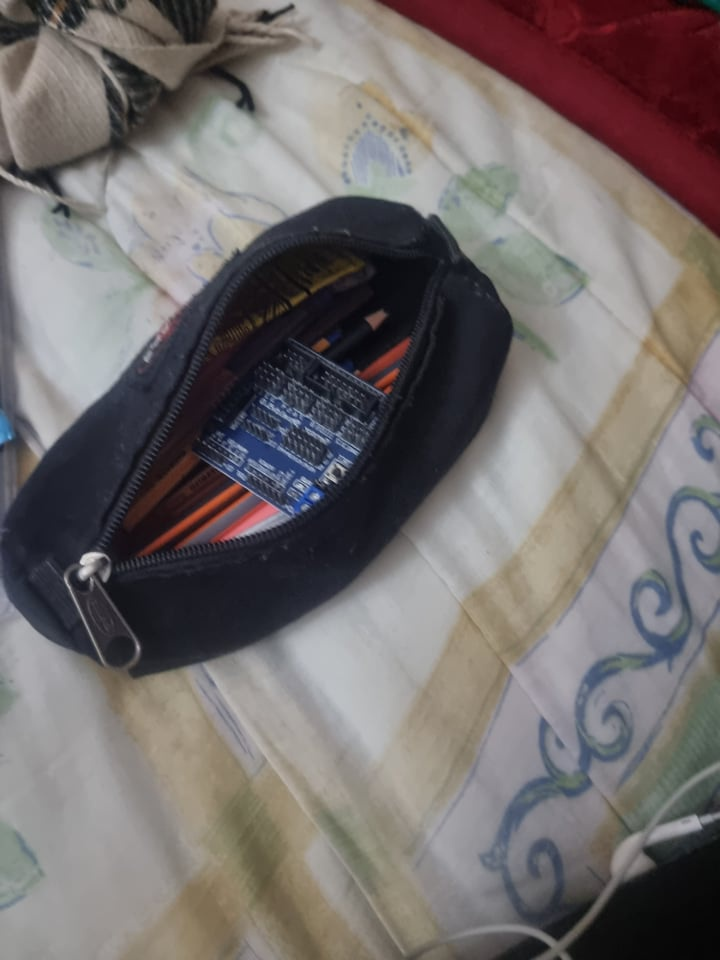5V EXPANSION: (192, 338, 390, 516)
